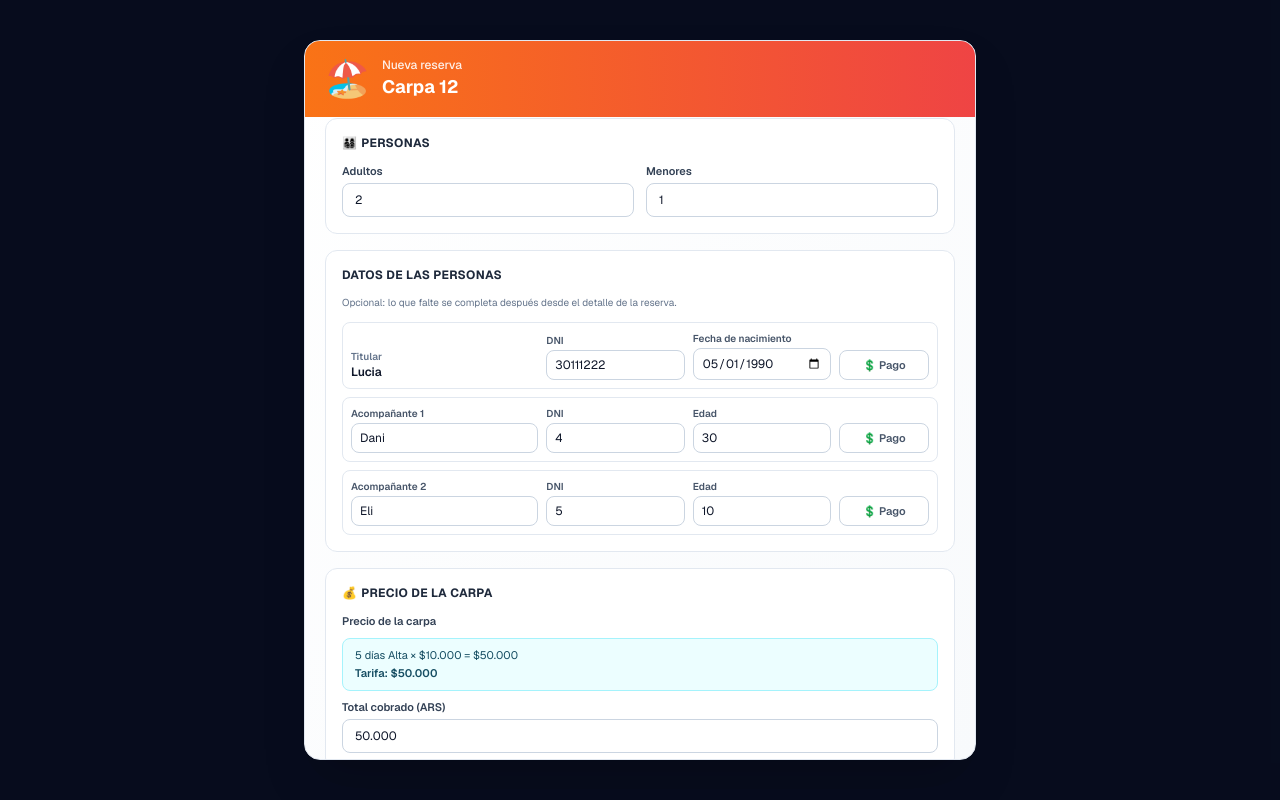
Scenario: cuenta unica en el alta de la carpa › vender un pase pago suma su subtotal a la cuenta
The image size is (1280, 800).
(page scrolled)
Click the button with aria-label "Pase de pileta pago para Dani" at point(884, 438), box x1=839 y1=422 x2=929 y2=453
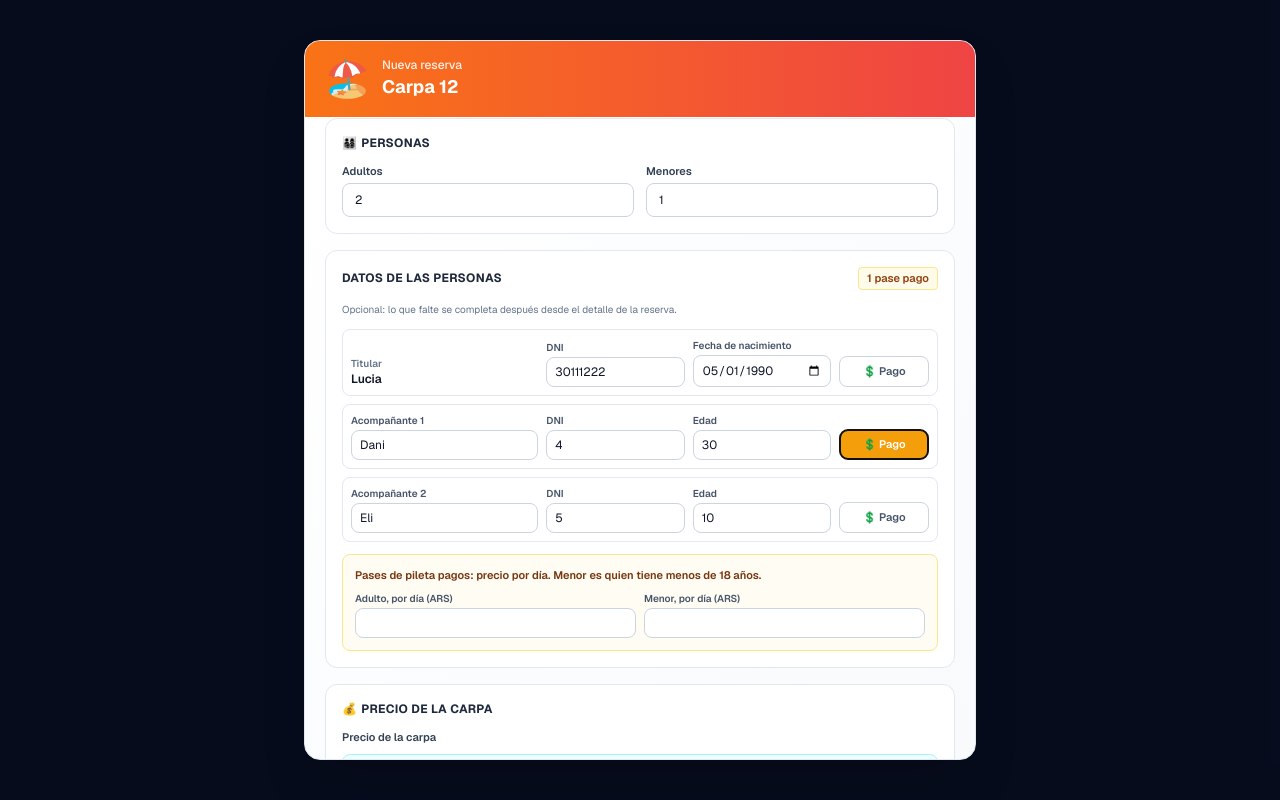
Click the button with aria-label "Pase de pileta pago para Eli" at point(884, 517), box x1=839 y1=502 x2=929 y2=532
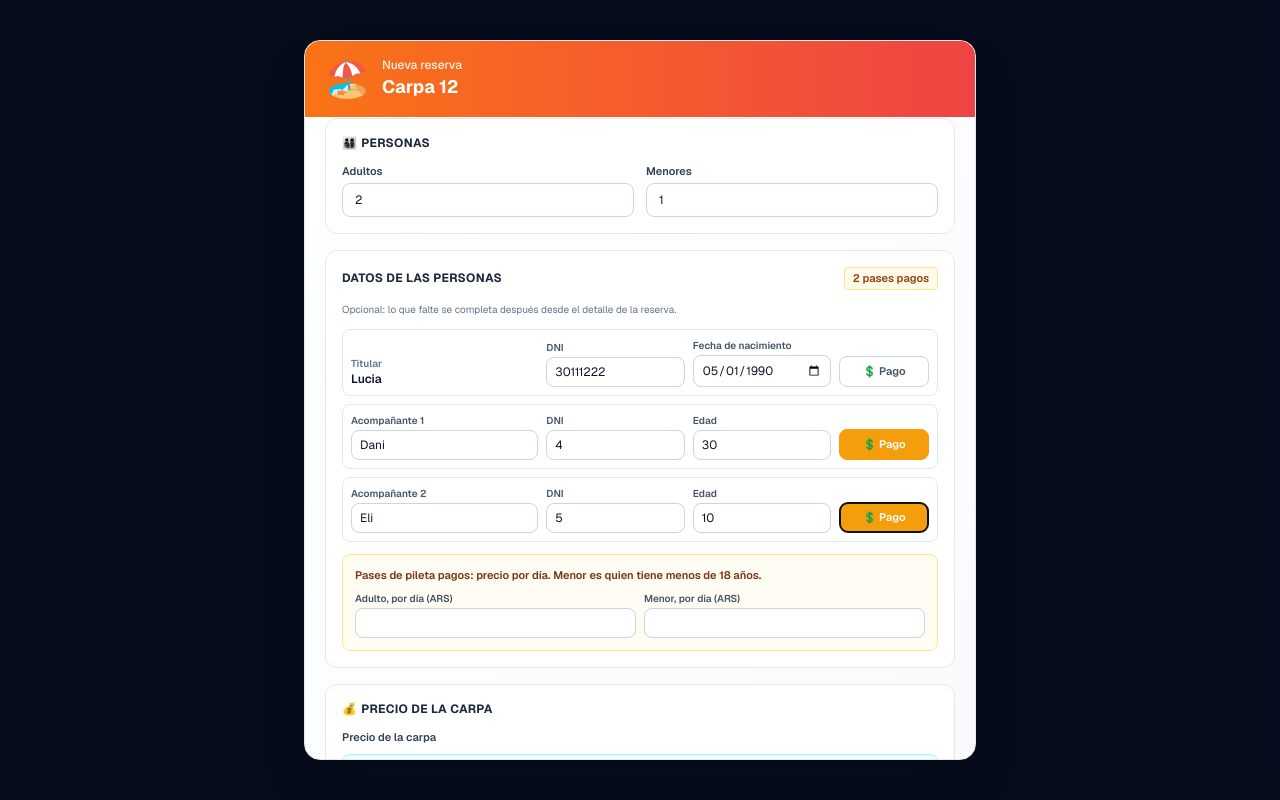
Type "5000" into the field named "Precio por día adulto (ARS)" at point(496, 623), box x1=355 y1=608 x2=636 y2=638
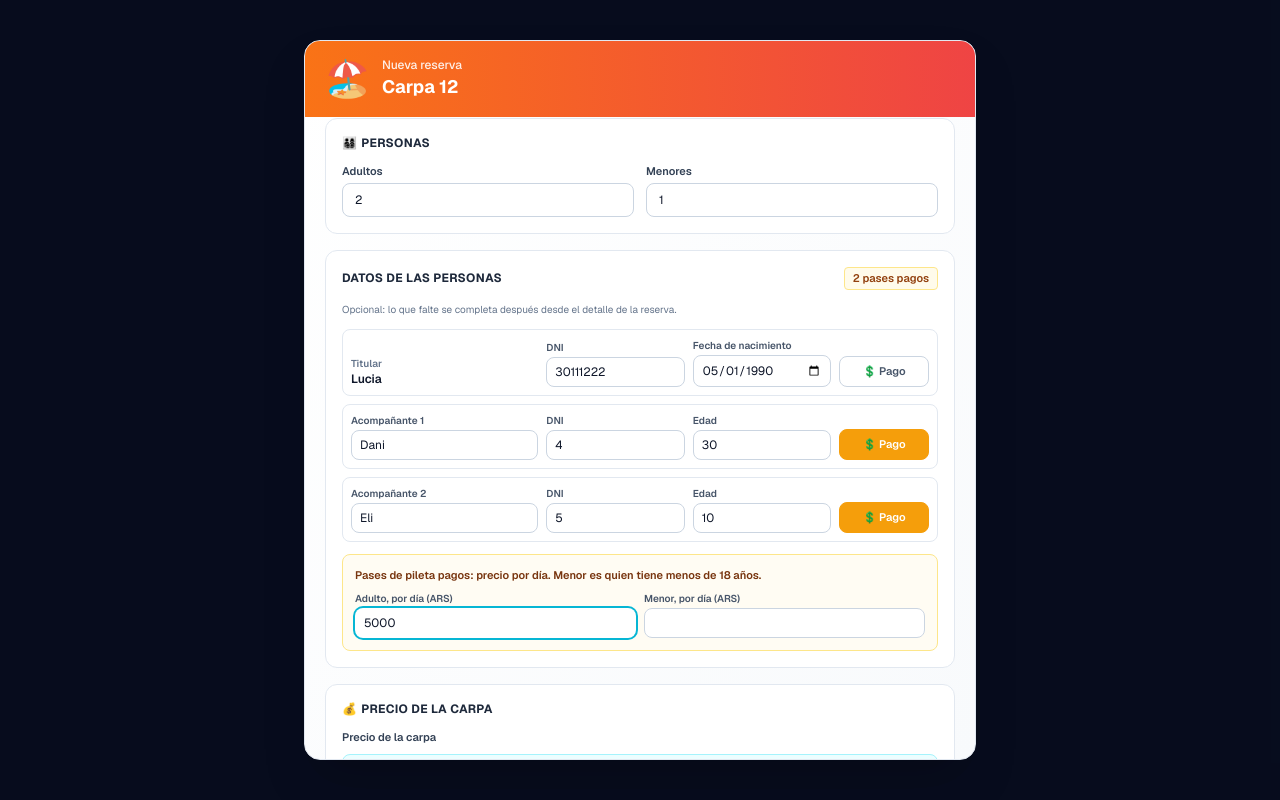
Type "3000" into the field named "Precio por día menor (ARS)" at point(784, 623), box x1=644 y1=608 x2=925 y2=638
(page scrolled)
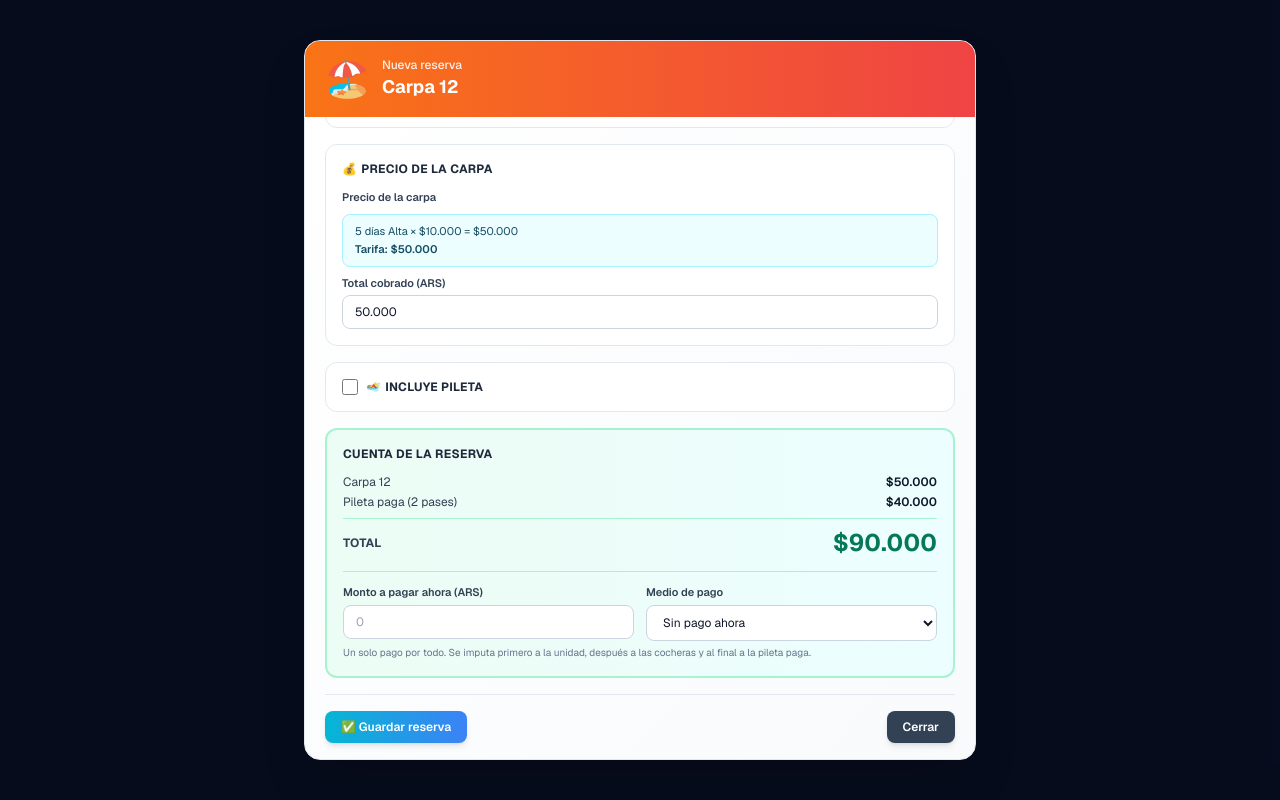
Check: the text "Pileta paga (2 pases)" is shown, box x1=343 y1=494 x2=457 y2=510
Check: the text "$40.000" is shown, box x1=886 y1=494 x2=937 y2=510
Check: the text "$90.000" is shown, box x1=833 y1=527 x2=937 y2=559
